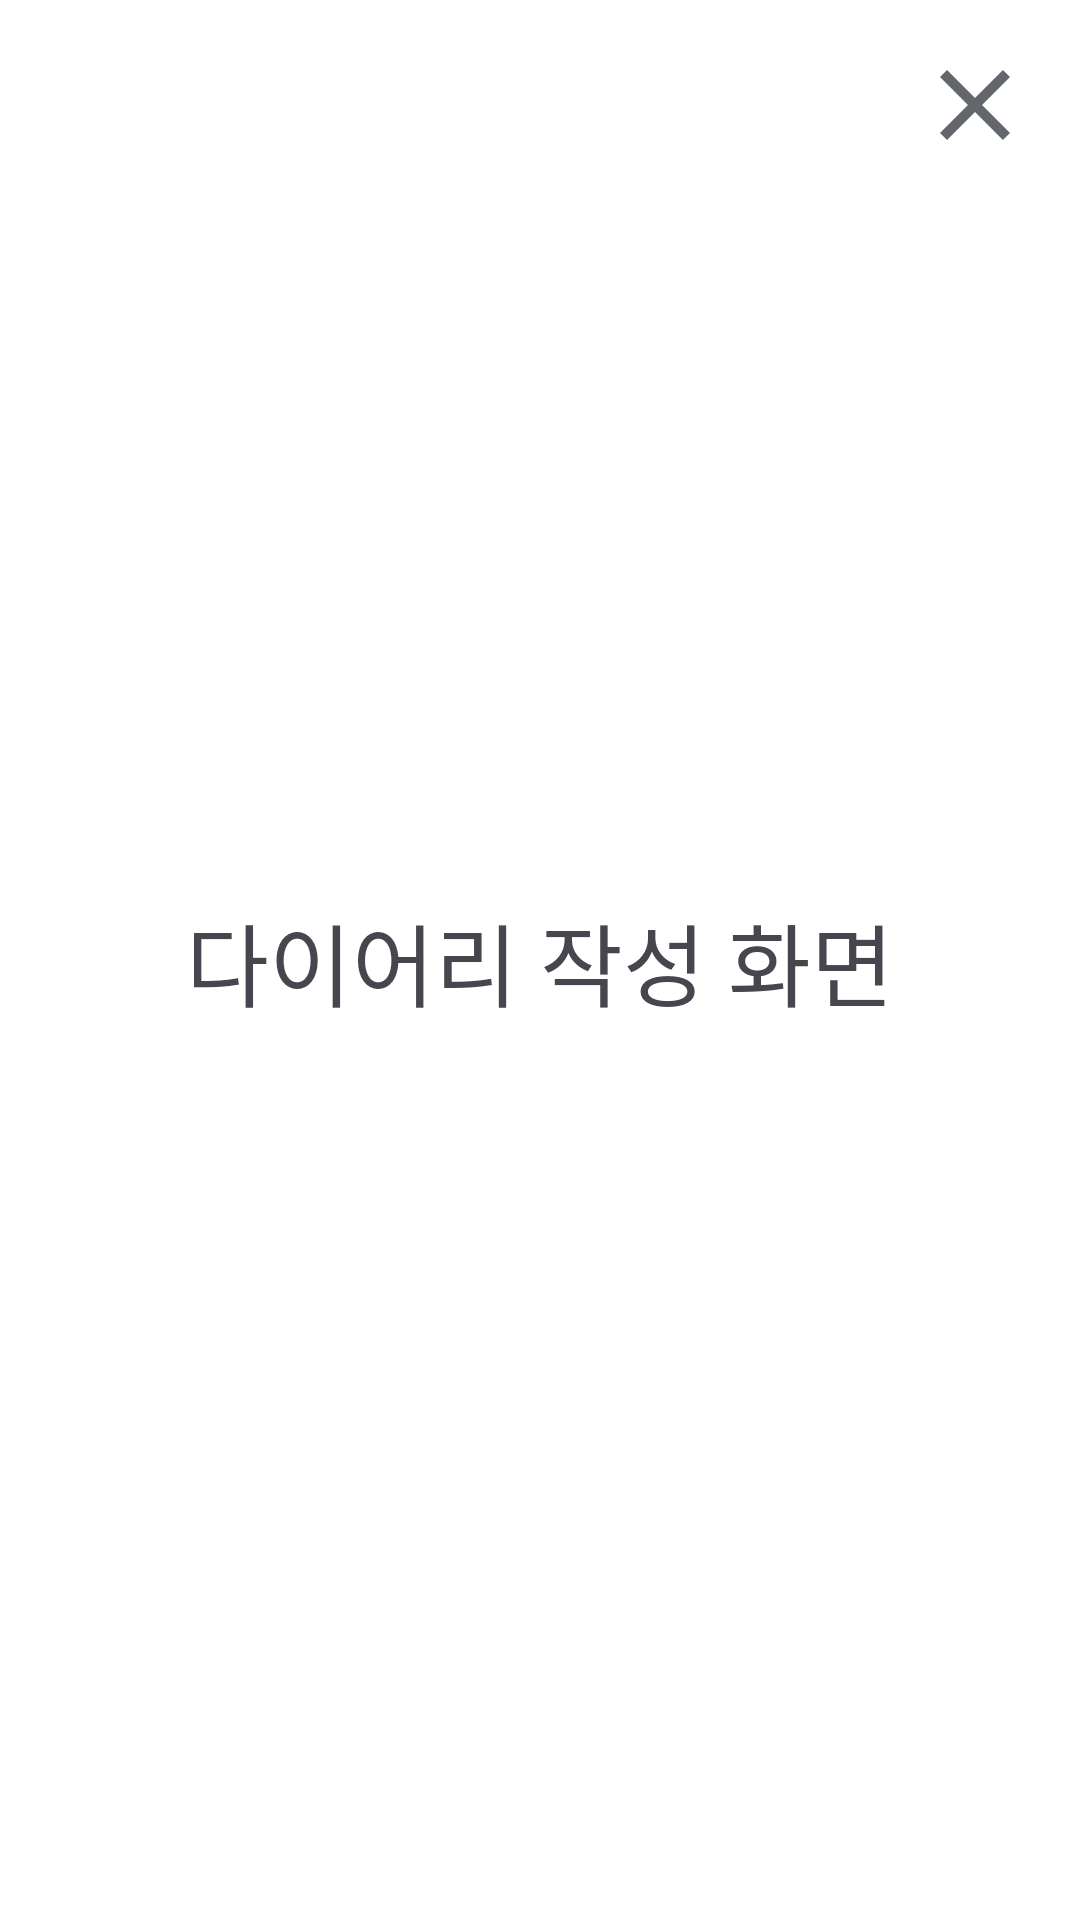

Named icons in this screenshot (1080w x 1920h) and their bounding boxes, (x1, y1, x2, y2):
close: (940, 70, 1010, 140)
